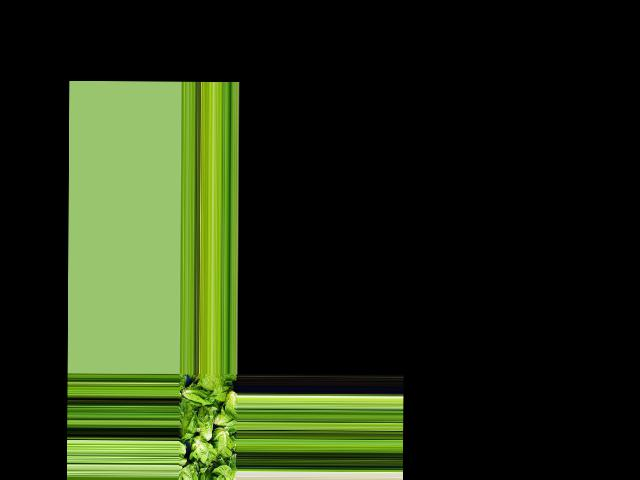lettuce: (223, 386, 236, 420)
